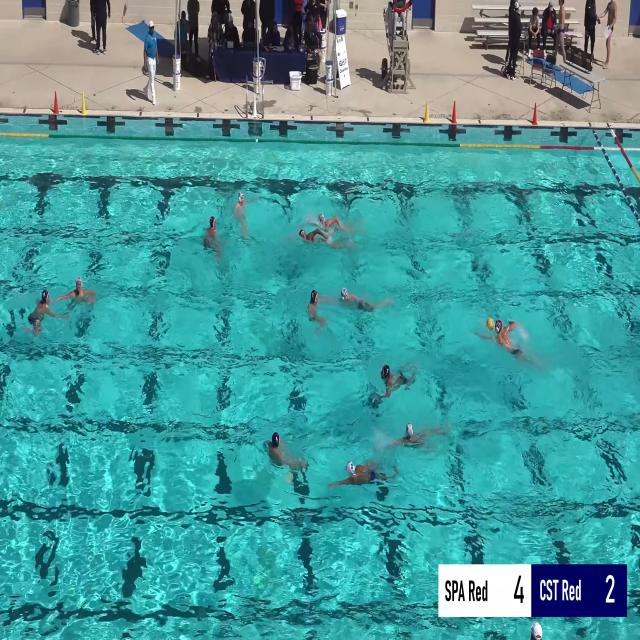ball: (486, 318, 494, 330)
